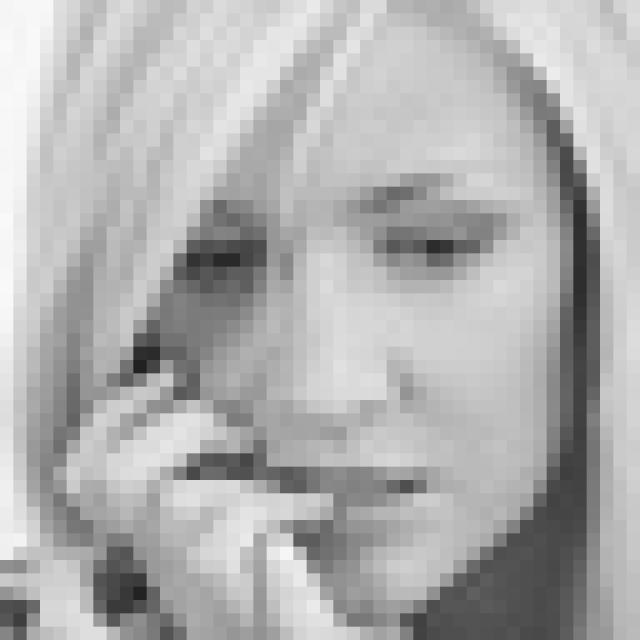fear: (160, 148, 530, 545)
